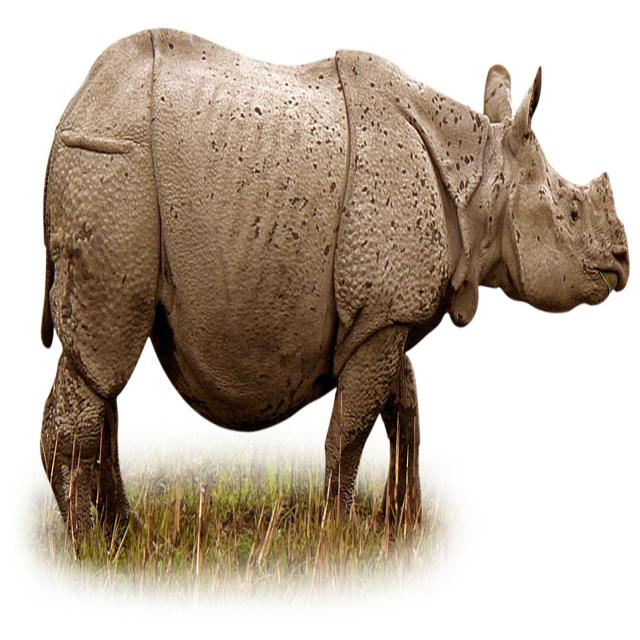rhinoceros: (41, 29, 629, 549)
